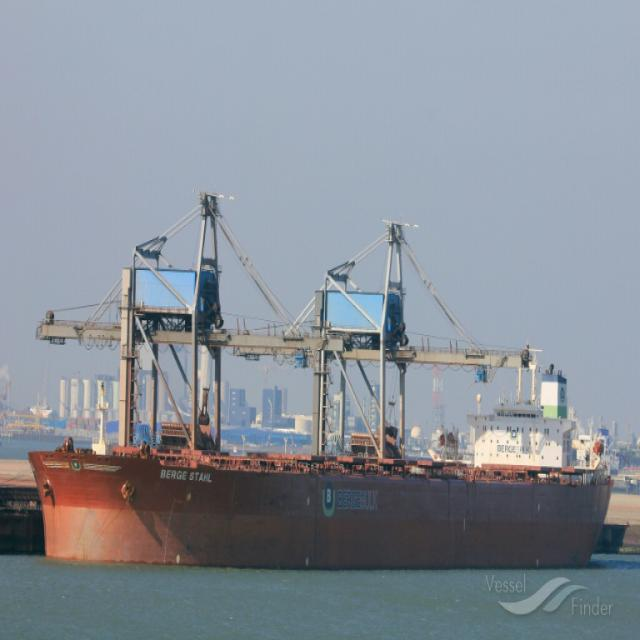Bulk Carrier: (30, 218, 613, 562)
